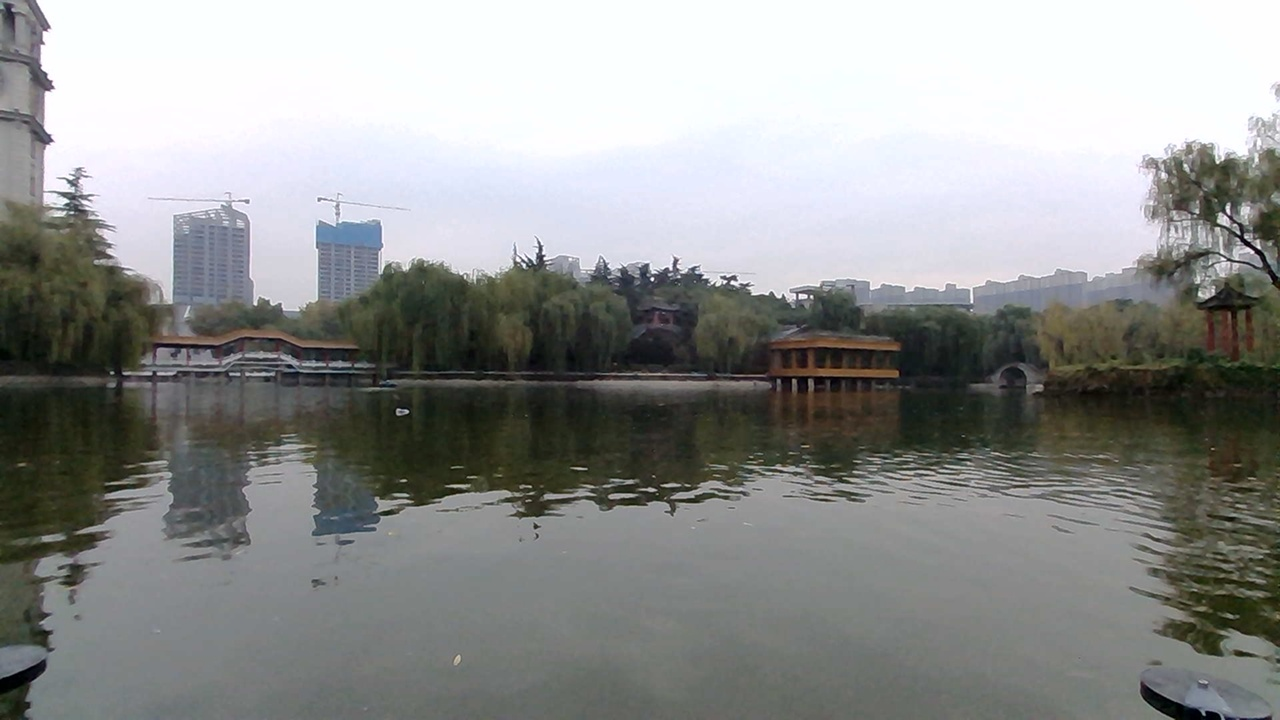bottle: (383, 398, 428, 422)
